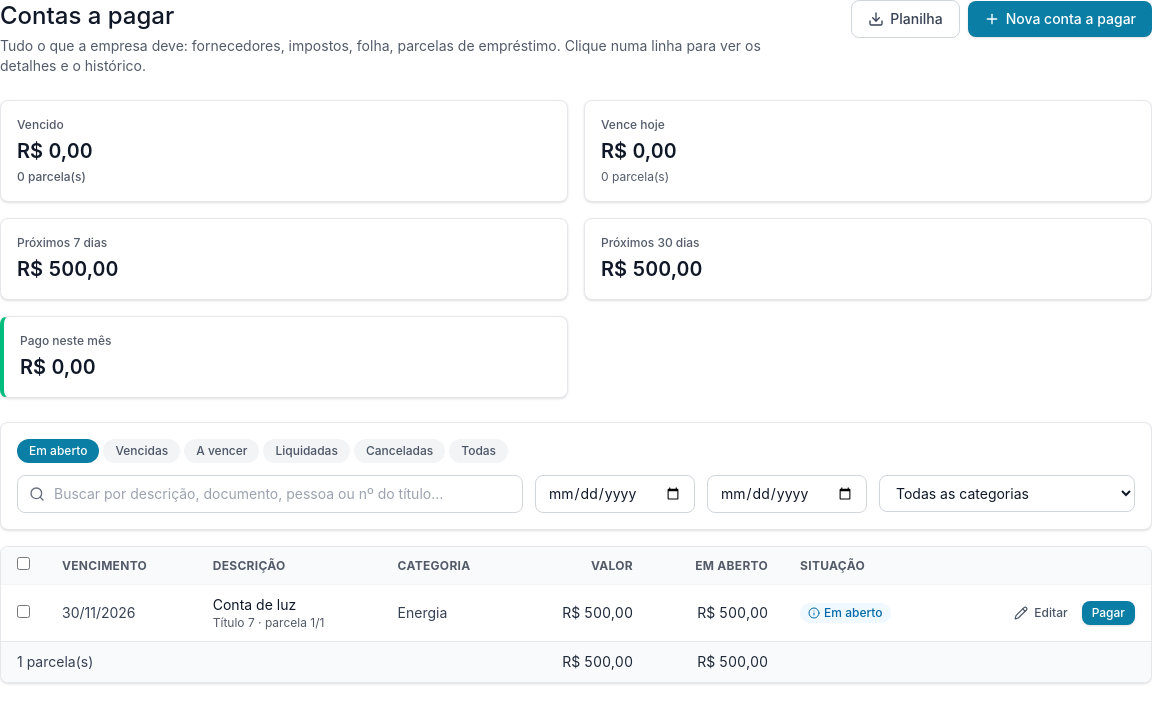
Test case: Contas a pagar › pagar uma parcela: registra, avisa e busca de novo a lista, o resumo e as contas
The width and height of the screenshot is (1152, 720).
Expected: the text "Conta de luz" is shown, [213, 596, 296, 613]
Step 1. Click the button "Pagar" → [1108, 613], box [1082, 601, 1135, 625]
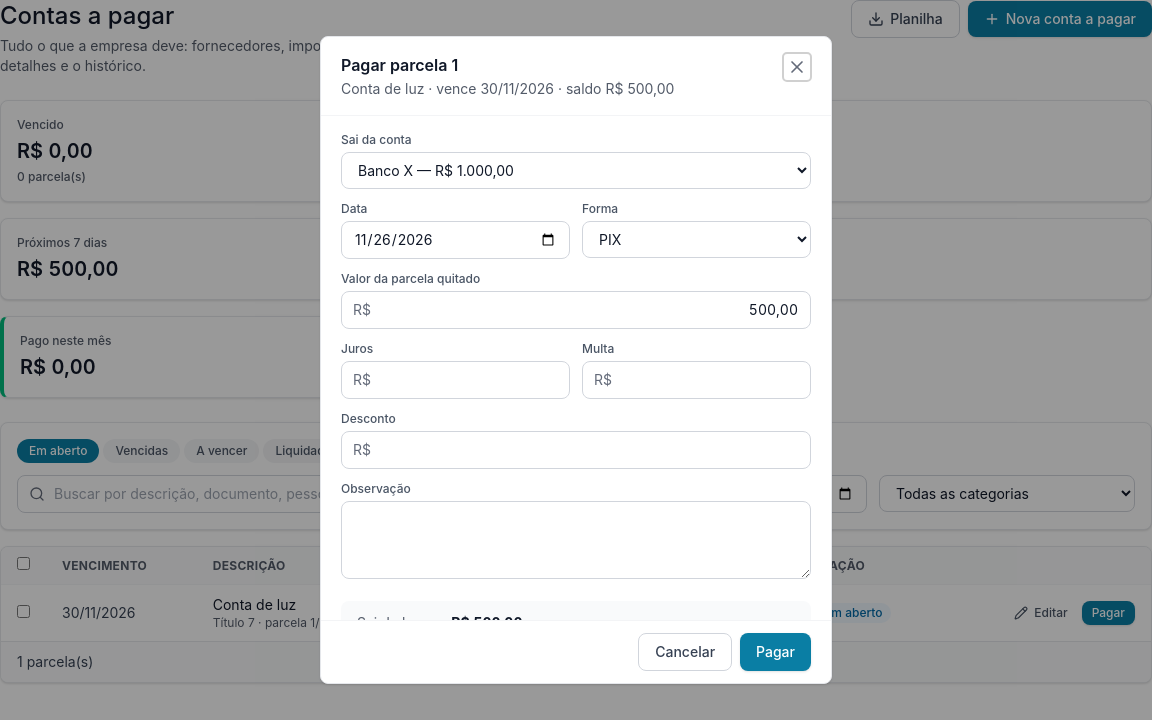
Step 2. Click the button "Pagar" → [776, 652], box [740, 633, 811, 671]
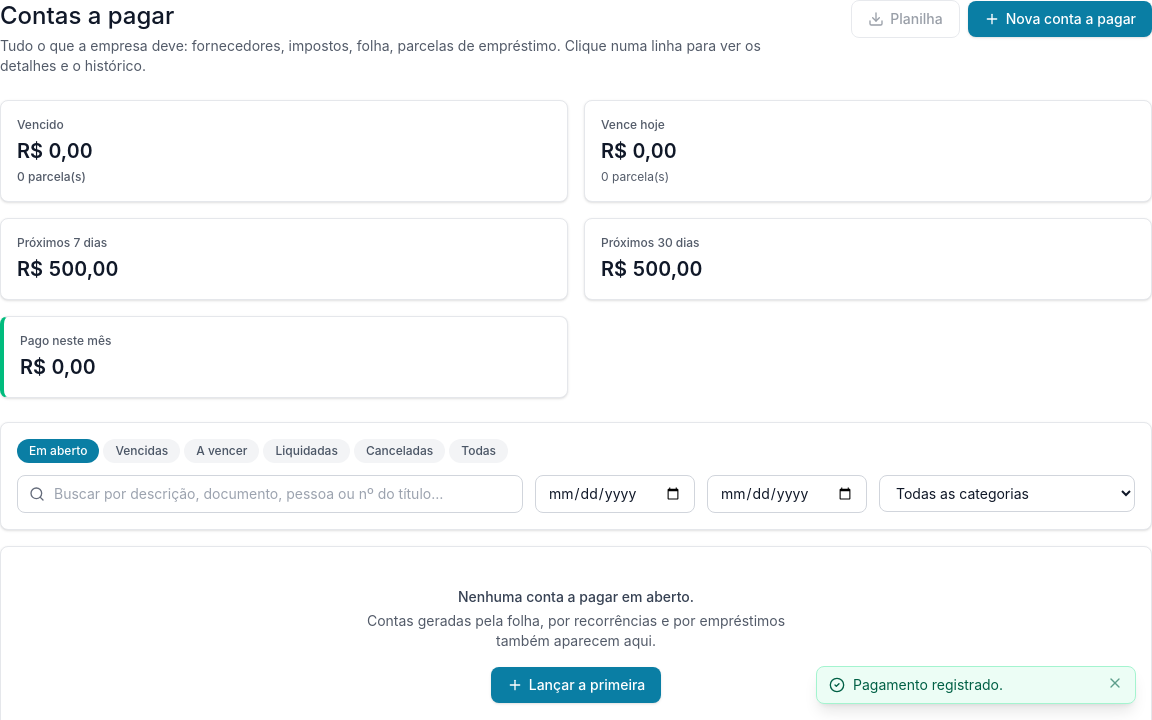
Result: the text "Pagamento registrado." is shown at [853, 676, 1003, 693]
Result: the text "Nenhuma conta a pagar em aberto." is shown at [458, 588, 694, 605]
